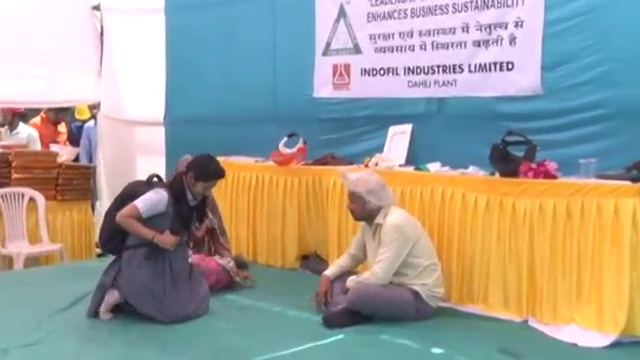helmet: (49, 142, 82, 162)
helmet_off: (339, 173, 393, 233), (172, 154, 228, 206), (40, 104, 70, 127), (1, 106, 23, 130), (87, 98, 104, 124)
person: (85, 156, 239, 335), (307, 175, 447, 328), (27, 102, 67, 155), (0, 104, 37, 155), (79, 100, 99, 168)
